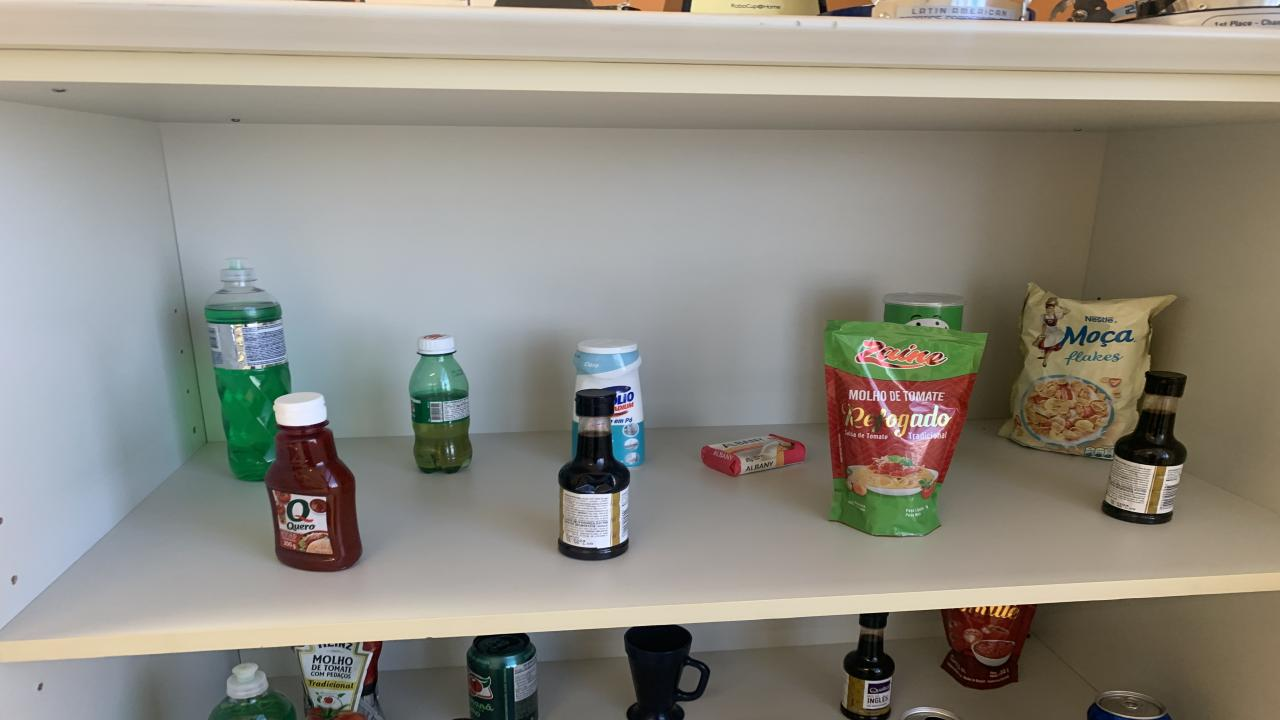Cleaner-Cleanup_Items: (572, 339, 645, 467)
Detergent-Cleanup_Items: (205, 259, 290, 482), (210, 664, 298, 720)
English_Sauce-Pantry_Items: (1102, 371, 1188, 525), (558, 390, 630, 561), (840, 613, 895, 720)
Flakes-Snacks: (1000, 283, 1175, 458)
Guarana-Drinks: (410, 334, 472, 472)
Guarana_Can-Drinks: (468, 634, 538, 720)
Ketchup-Pantry_Items: (265, 392, 362, 572), (308, 675, 365, 718)
Pringles-Snacks: (882, 292, 965, 330)
Soap-Cleanup_Items: (700, 435, 805, 476)
Tomato_Sauce-Pantry_Items: (825, 321, 988, 536), (942, 604, 1035, 690), (295, 641, 382, 720)
Tonic-Drinks: (1088, 690, 1170, 720)
